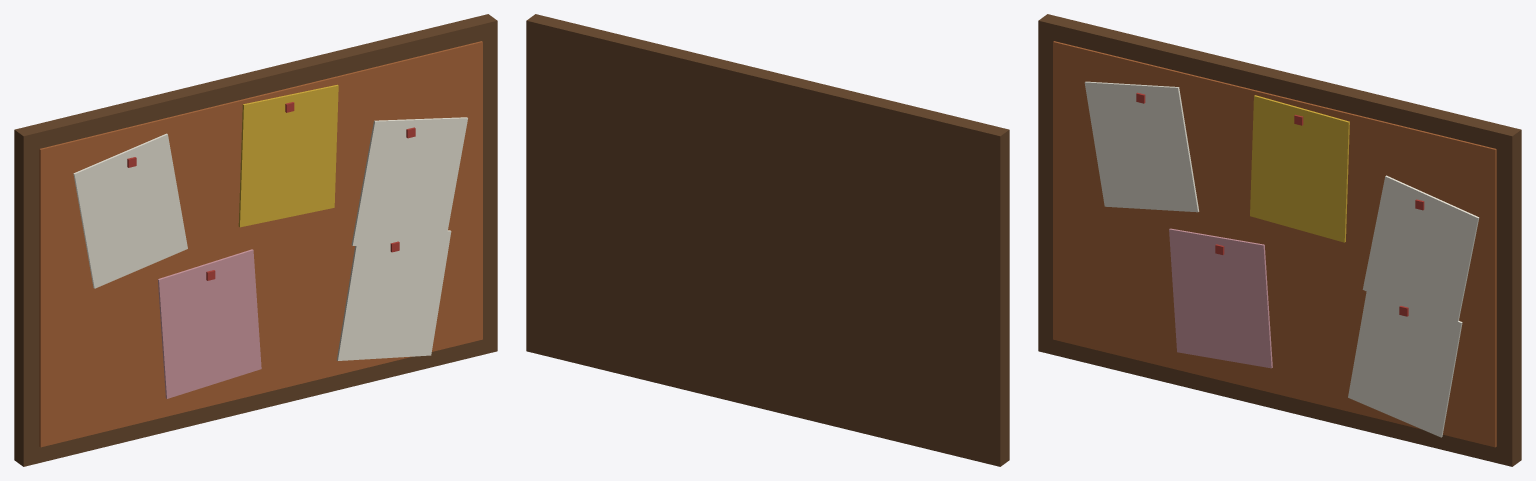
File: GD_BulletinBoard_01.glb
The picture shows the model from 3 angles, left to right: view 1: azimuth 30°, elevation 25°; view 2: azimuth 150°, elevation 25°; view 3: azimuth 330°, elevation 25°; orthographic projection.
Visible parts, largest first — view 1: GD_BulletinBoard_01; view 2: GD_BulletinBoard_01; view 3: GD_BulletinBoard_01.
Boxes of the visible parts, x1,y1,x2,y2 form: GD_BulletinBoard_01: (14,14,497,466); GD_BulletinBoard_01: (526,14,1009,466); GD_BulletinBoard_01: (1038,14,1521,466).
Size of the model in its own units: 0.9 by 0.6 by 0.042.
1 material, 1 textured.
